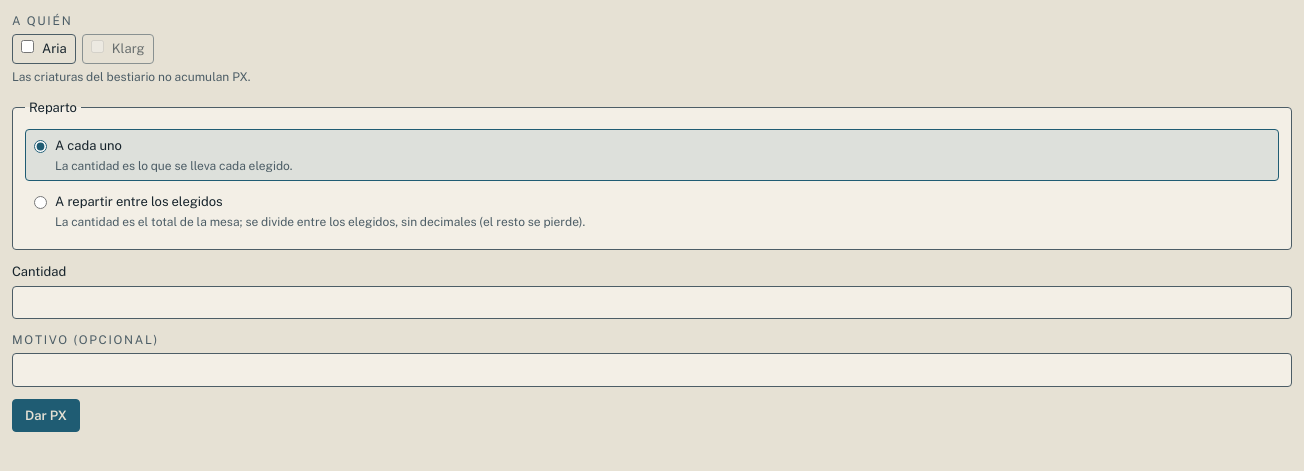
Test: DarXp › cantidad 0 se dice en línea y no se manda; el botón no se deshabilita
Click the checkbox labelled "Aria": [28, 46] box 21,40 -> 34,53
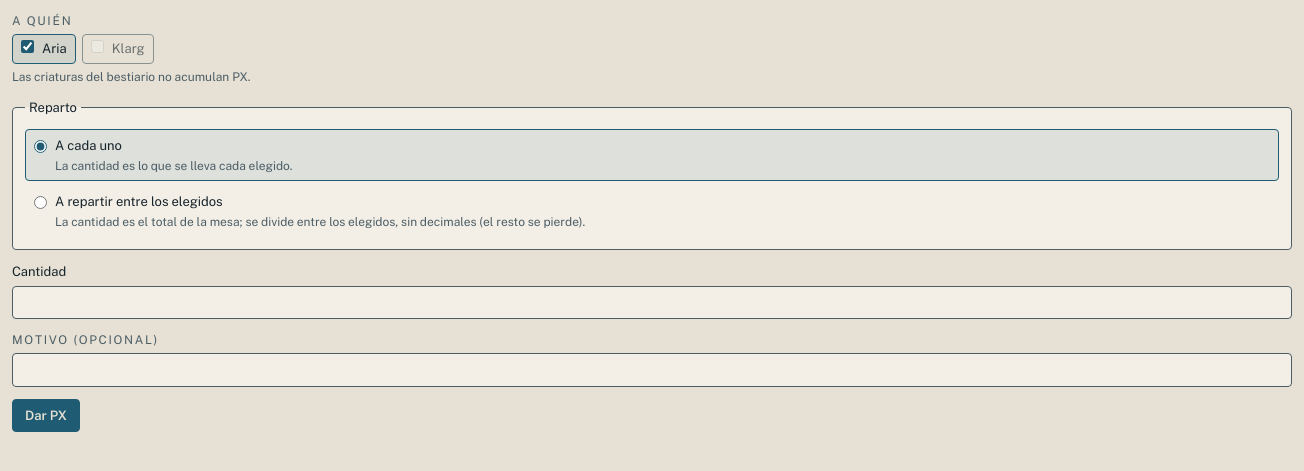
In the number field labelled "Cantidad": [652, 302] box 12,286 -> 1292,319, type "0"
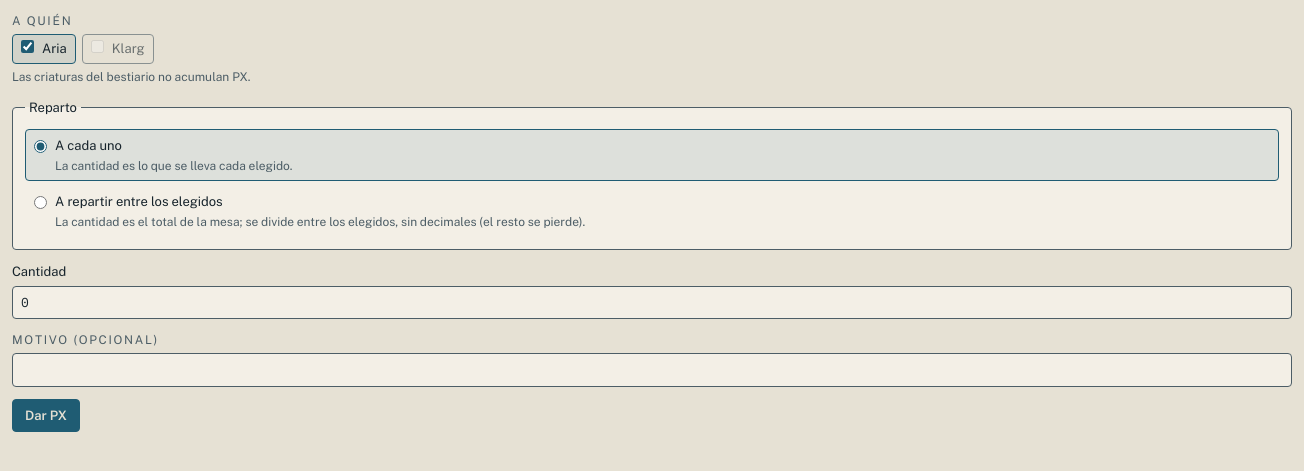
Click the button "Dar PX": [46, 415] box 12,398 -> 80,432
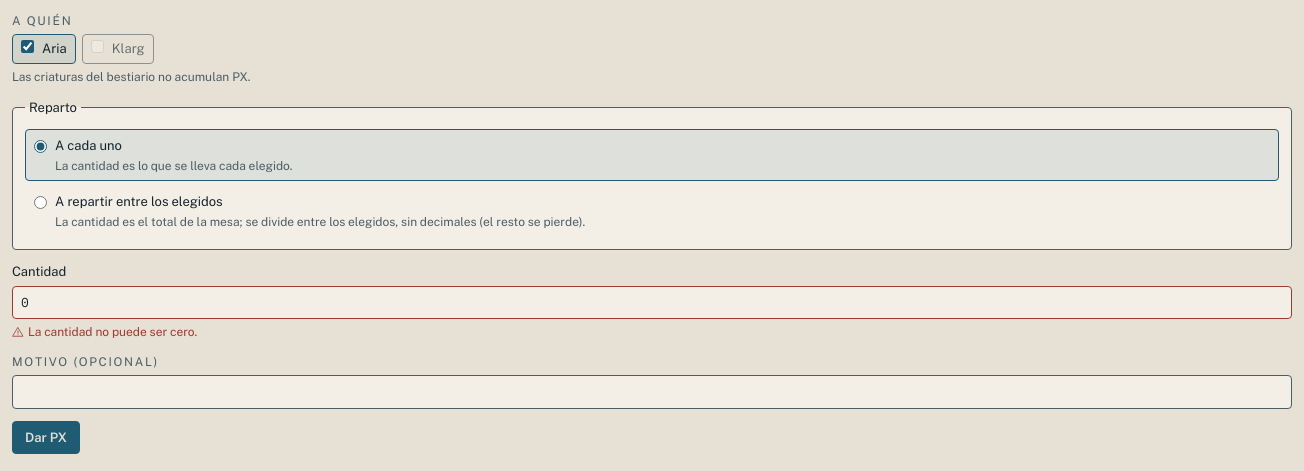
expect the button "Dar PX" is enabled: met, box 12,420 -> 80,454
expect the text "La cantidad no puede ser cero." is shown: met, box 12,325 -> 197,339
